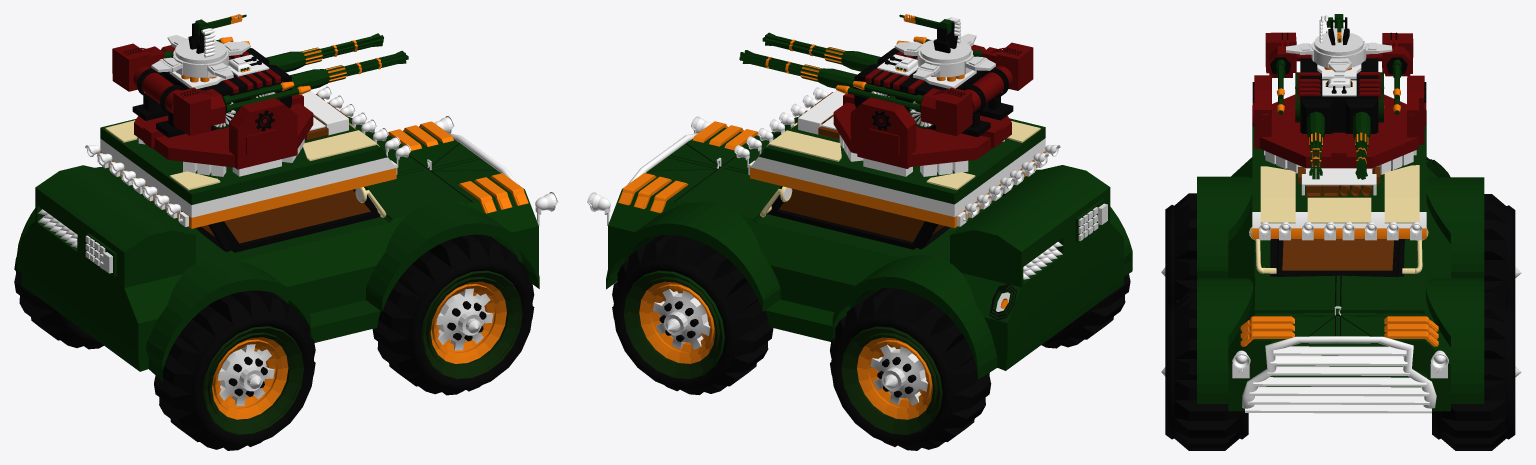
Rendered from TURRET GUN_3.1.fbx.
The picture shows the model from 3 angles, left to right: view 1: azimuth 30°, elevation 25°; view 2: azimuth 150°, elevation 25°; view 3: azimuth 270°, elevation 25°; orthographic projection. The views are drawn at different scales.
Visible parts, largest first — view 1: CAR_BODY1, BACK_RIGHT_WHEEL1, FRONT_RIGHT_WHEEL1, MATCHIN_GUN, SIDE_GUN1, UPPER_GUN_polySurface23, FRONT_GUN1, polySurface809; view 2: CAR_BODY1, polySurface809, FRONT_LEFT_WHEL, MATCHIN_GUN, SIDE_GUN1, UPPER_GUN_polySurface23, FRONT_GUN1, BACK_RIGHT_WHEEL1; view 3: CAR_BODY1, MATCHIN_GUN, FRONT_LEFT_WHEL, FRONT_RIGHT_WHEEL1, BACK_RIGHT_WHEEL1, polySurface809, SIDE_GUN1, UPPER_GUN_polySurface23, FRONT_GUN1.
Part boxes in pixels (x1=…): CAR_BODY1: x1=16, y1=86, x2=558, y2=381; BACK_RIGHT_WHEEL1: x1=154, y1=290, x2=315, y2=450; FRONT_RIGHT_WHEEL1: x1=372, y1=234, x2=534, y2=395; MATCHIN_GUN: x1=132, y1=45, x2=313, y2=169; SIDE_GUN1: x1=112, y1=37, x2=310, y2=135; UPPER_GUN_polySurface23: x1=151, y1=14, x2=250, y2=78; FRONT_GUN1: x1=266, y1=33, x2=408, y2=89; polySurface809: x1=14, y1=257, x2=103, y2=349; CAR_BODY1: x1=587, y1=87, x2=1132, y2=379; polySurface809: x1=830, y1=288, x2=991, y2=450; FRONT_LEFT_WHEL: x1=612, y1=234, x2=773, y2=394; MATCHIN_GUN: x1=833, y1=44, x2=1013, y2=168; SIDE_GUN1: x1=836, y1=36, x2=1033, y2=136; UPPER_GUN_polySurface23: x1=894, y1=14, x2=995, y2=78; FRONT_GUN1: x1=739, y1=32, x2=880, y2=88; BACK_RIGHT_WHEEL1: x1=1041, y1=274, x2=1130, y2=348; CAR_BODY1: x1=1197, y1=110, x2=1484, y2=413; MATCHIN_GUN: x1=1252, y1=41, x2=1426, y2=168; FRONT_LEFT_WHEL: x1=1432, y1=293, x2=1521, y2=450; FRONT_RIGHT_WHEEL1: x1=1161, y1=293, x2=1248, y2=450; BACK_RIGHT_WHEEL1: x1=1161, y1=193, x2=1196, y2=308; polySurface809: x1=1484, y1=194, x2=1521, y2=308; SIDE_GUN1: x1=1265, y1=32, x2=1413, y2=114; UPPER_GUN_polySurface23: x1=1286, y1=14, x2=1392, y2=72; FRONT_GUN1: x1=1307, y1=111, x2=1370, y2=179.
Bounding box in the file's own units: 133 × 107 × 102.
